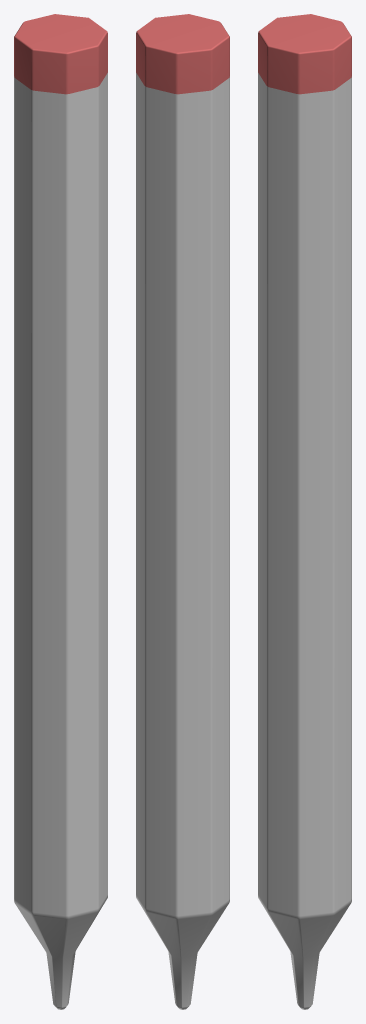
File: pen.fbx
3 views of the same model, side by side, from view 1: azimuth 30°, elevation 25°; view 2: azimuth 150°, elevation 25°; view 3: azimuth 330°, elevation 25° (orthographic).
Visible parts, largest first — view 1: pen; view 2: pen; view 3: pen.
Part boxes in pixels (x1,y1,x2,y2): pen: [14, 14, 107, 1009]; pen: [136, 14, 229, 1009]; pen: [258, 14, 351, 1009].
Size of the model in its own units: 1.57 by 19.2 by 1.57.
